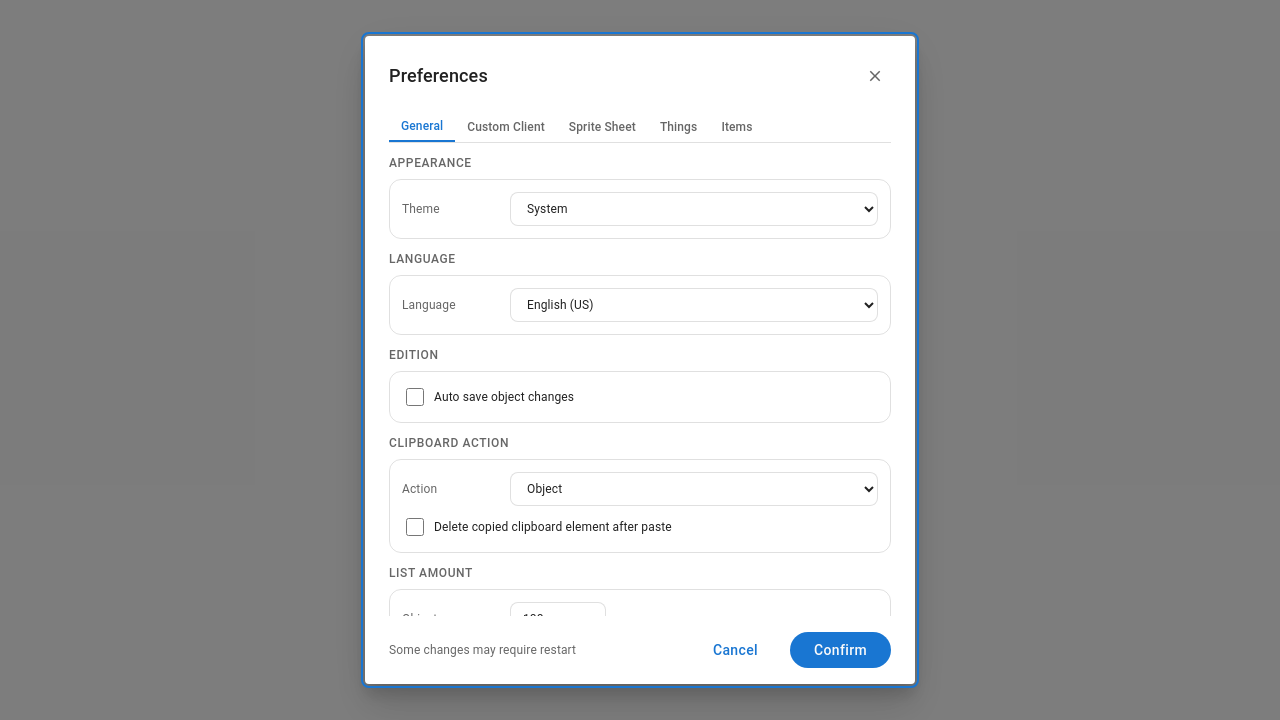
it: PreferencesDialog › Custom Client tab shows extended/transparency checkboxes
Click the button "Custom Client" at (506, 127), box [455,112,557,142]
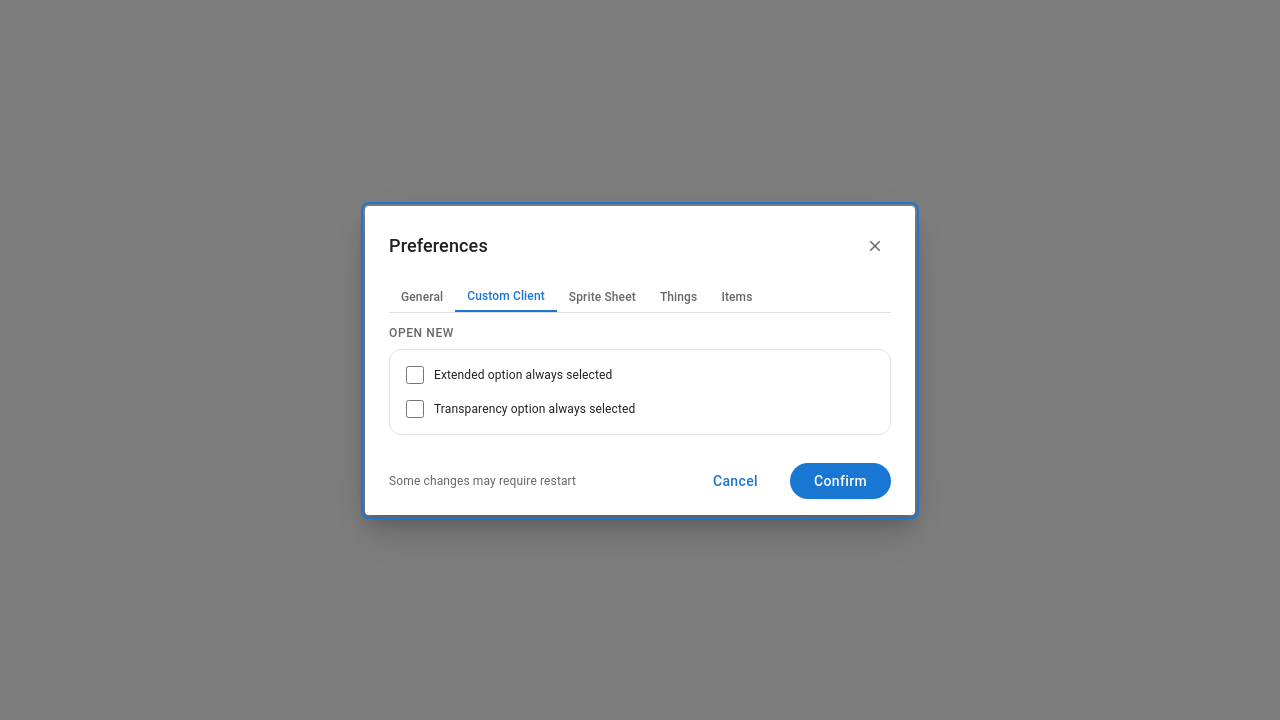
Check: the text "Extended option always selected" is shown, box [434,366,612,382]
Check: the text "Transparency option always selected" is shown, box [434,400,635,416]
